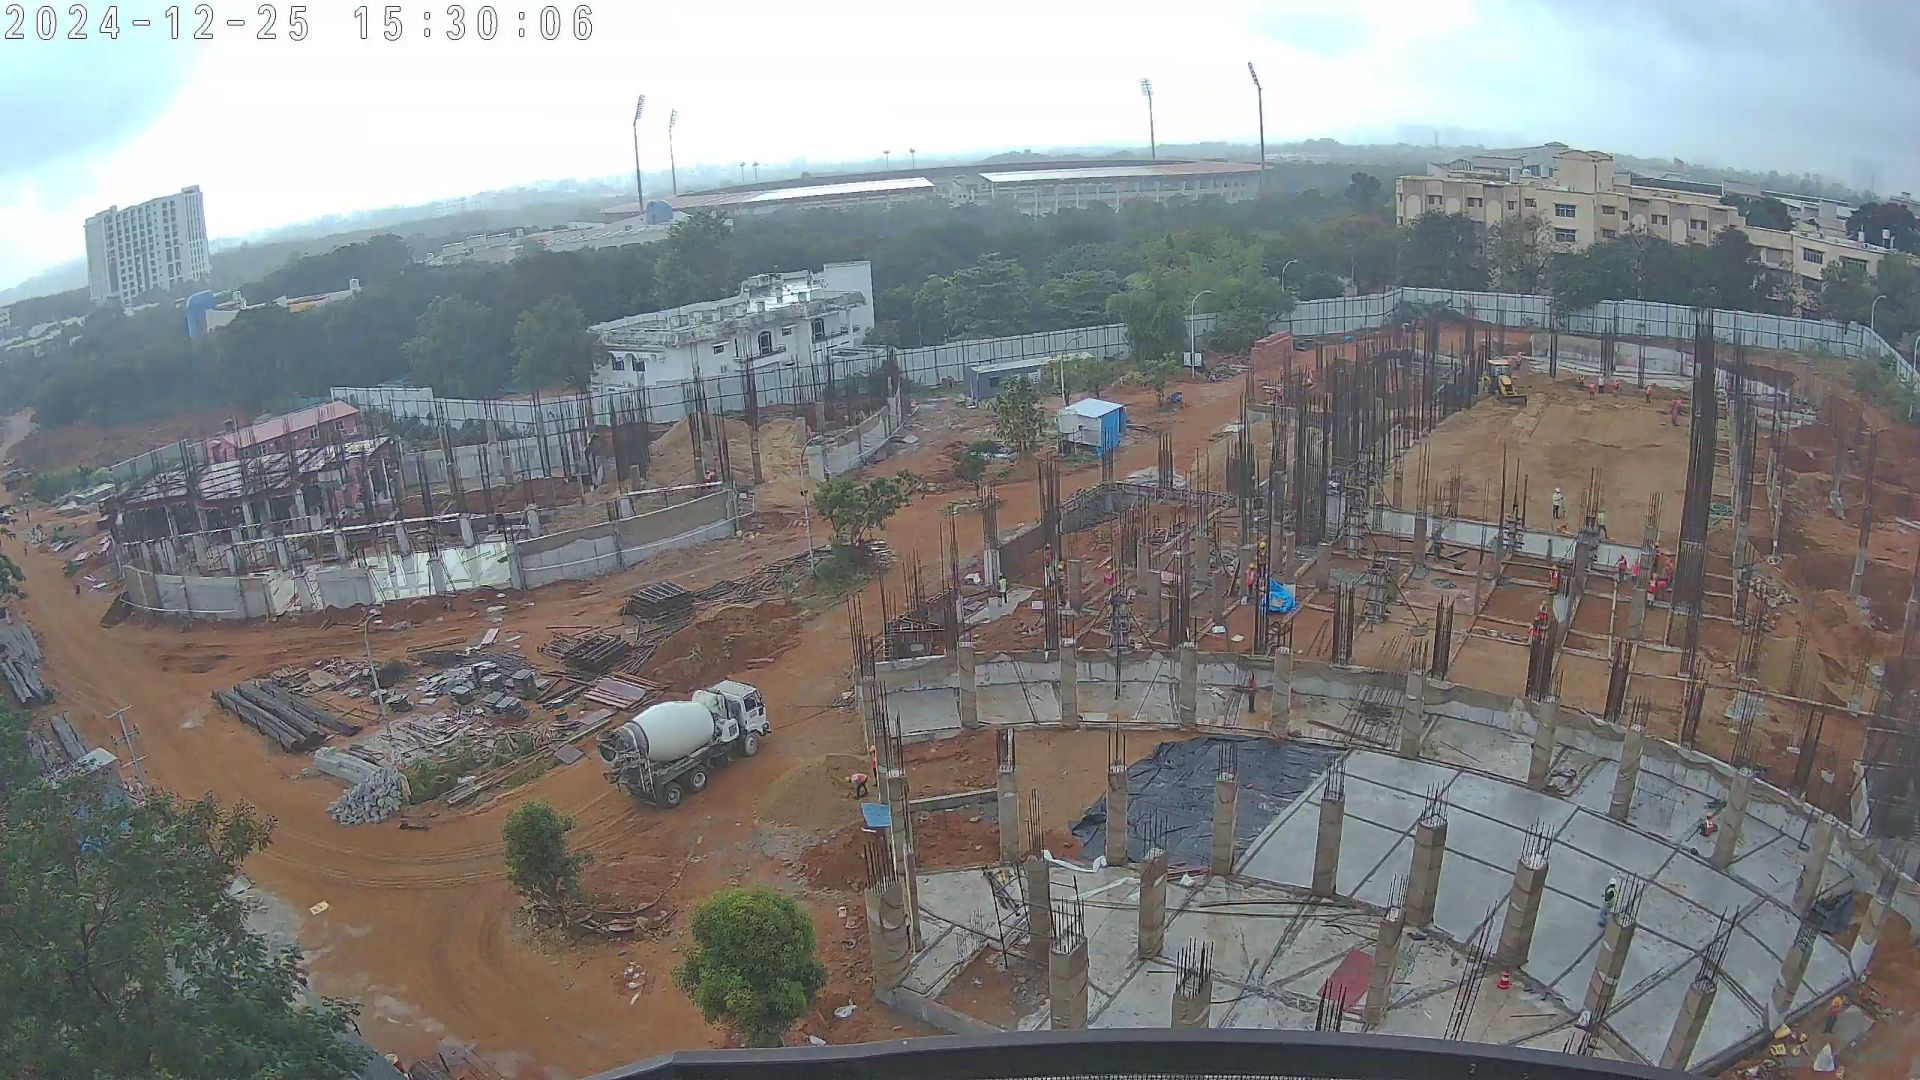bulldozer: (1471, 353, 1524, 411)
truck: (599, 678, 773, 808)
worker: (1599, 873, 1619, 931), (1590, 506, 1613, 548), (994, 571, 1014, 617), (1244, 668, 1260, 723), (1049, 560, 1067, 607), (1824, 994, 1843, 1036), (1101, 561, 1116, 611), (865, 744, 882, 786), (845, 770, 867, 800), (1694, 810, 1716, 837), (1551, 484, 1564, 526), (1243, 561, 1256, 601), (1529, 616, 1545, 645), (1613, 553, 1627, 585), (1546, 562, 1559, 595), (67, 577, 87, 597), (1536, 600, 1552, 625), (1667, 400, 1680, 430), (1647, 570, 1657, 608), (1629, 558, 1640, 589), (1650, 544, 1662, 570), (17, 538, 32, 557), (1663, 557, 1674, 582), (1644, 384, 1655, 406), (702, 468, 713, 489), (1588, 380, 1597, 401), (1578, 372, 1587, 392), (1598, 372, 1605, 395)
